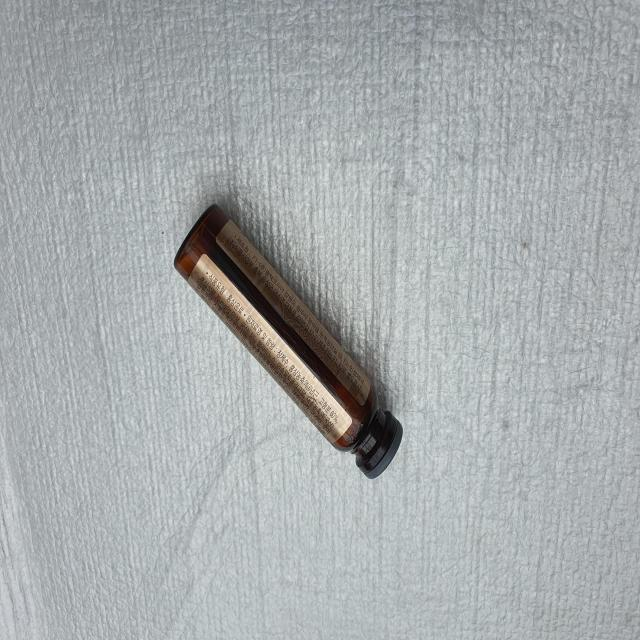glass: (174, 204, 403, 479)
